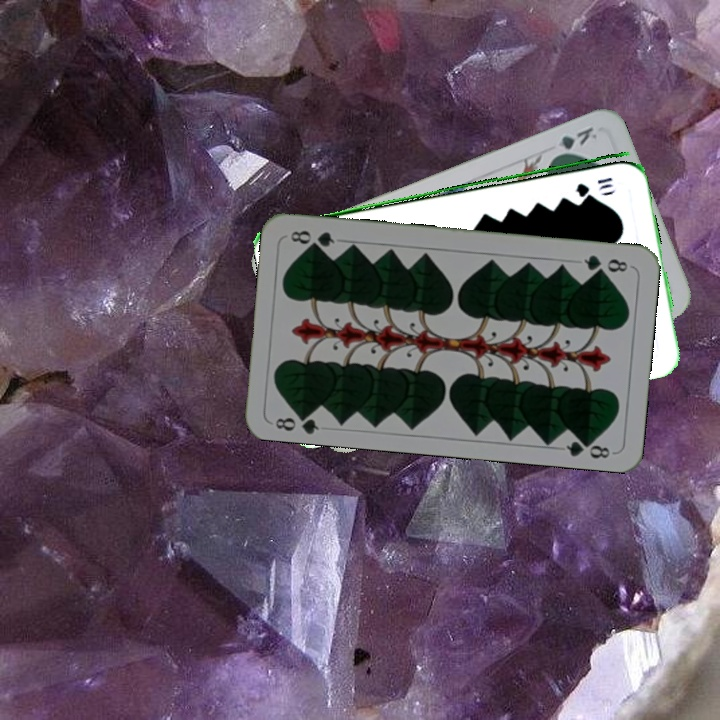G10: (572, 173, 615, 196)
G8: (271, 407, 322, 436), (580, 250, 631, 276)
GK: (547, 122, 600, 161)
